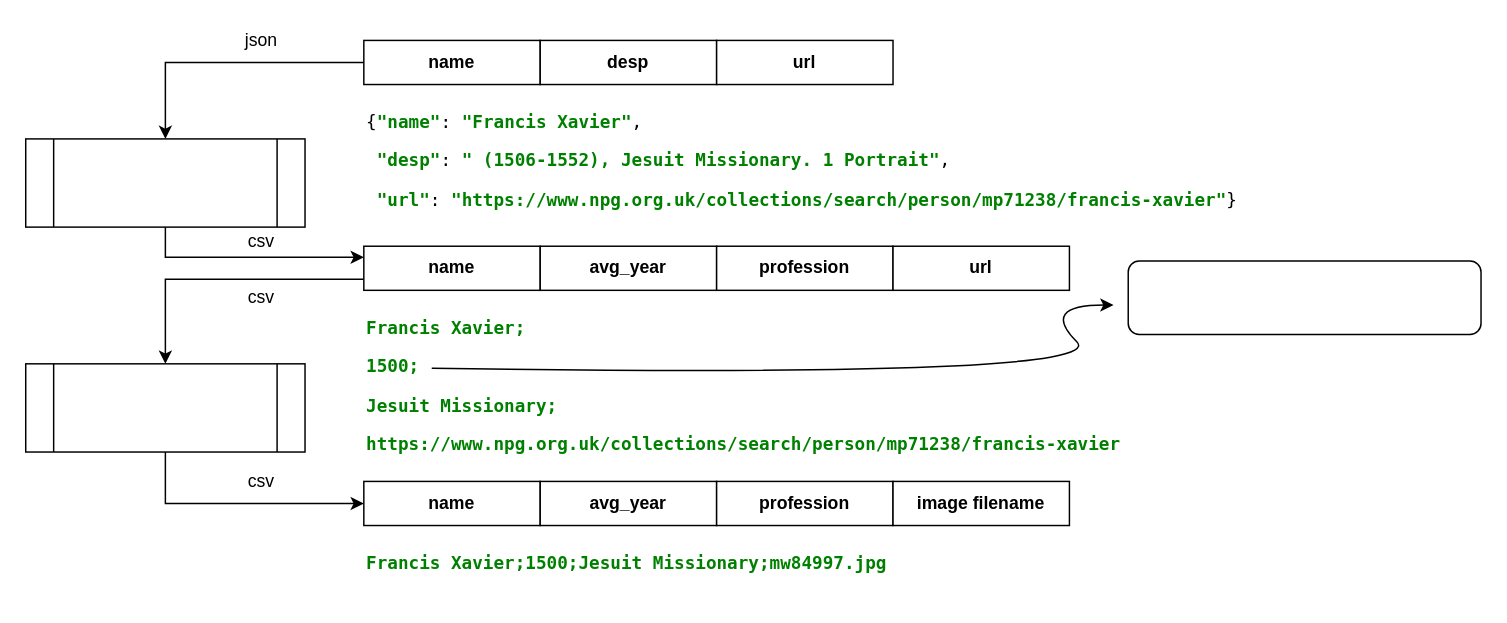
The diagram is 1507 pixels wide and 623 high, and some of its shapes have lost their labels. The shapes that lost their labels are listed below. From the top down, each one's box as (x1, y1, x2, y2) in pixels, then its label:
(24, 137, 305, 227): step 1 extract the century info
(1127, 259, 1481, 334): floor((1506 + 1552) / 2 * 100) * 100
(24, 362, 305, 452): step 2 download the image
